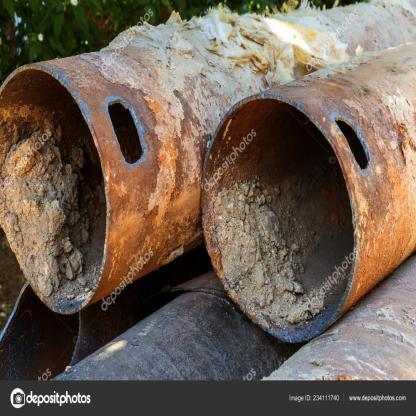burst: (106, 82, 169, 168), (329, 110, 384, 183)
